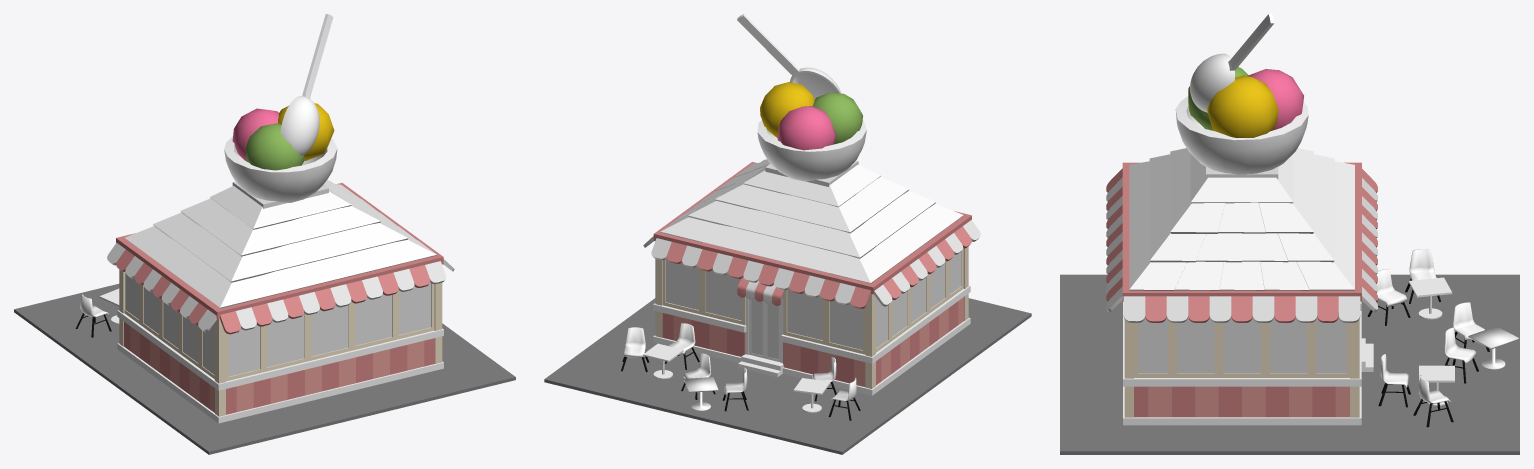
File: IceCreamShop.fbx
The picture shows the model from 3 angles, left to right: view 1: azimuth 30°, elevation 25°; view 2: azimuth 150°, elevation 25°; view 3: azimuth 270°, elevation 25°; orthographic projection. The views are drawn at different scales.
Visible parts, largest first — view 1: Cube.670, Plane, Cube.657, Cube.660, Cube.687, Cube.683, Cube.696, Sphere.001, Sphere, Cube.661, Sphere.004, Plane.100; view 2: Plane, Cube.670, Cube.657, Cube.687, Cube.660, Cube.696, Sphere.001, Cube.683, Sphere, Cube.661, Plane.100, Plane.099 (+2 smaller); view 3: Plane, Cube.670, Cube.687, Cube.657, Cube.660, Sphere.001, Cube.683, Cube.696, Sphere, Plane.100, Cube.661, Plane.099 (+2 smaller).
Boxes of the visible parts, x1,y1,x2,y2 form: Cube.670: (125,180,436,308); Plane: (14,283,515,454); Cube.657: (125,273,430,376); Cube.660: (124,322,434,414); Cube.687: (107,242,454,334); Cube.683: (119,264,442,416); Cube.696: (117,310,443,423); Sphere.001: (232,103,334,170); Sphere: (224,136,337,202); Cube.661: (116,183,443,319); Sphere.004: (280,14,333,155); Plane.100: (75,294,111,337); Plane: (544,298,1031,454); Cube.670: (660,159,963,283); Cube.657: (666,251,961,349); Cube.687: (643,220,980,308); Cube.660: (662,297,964,386); Cube.696: (653,285,970,395); Sphere.001: (760,82,862,150); Cube.683: (655,246,968,388); Sphere: (757,120,866,181); Cube.661: (653,162,971,294); Plane.100: (621,323,860,420); Plane.099: (643,343,830,412); Plane: (1060,274,1519,454); Cube.670: (1129,148,1354,290); Cube.687: (1106,168,1377,322); Cube.657: (1138,317,1346,373); Cube.660: (1134,386,1349,417); Sphere.001: (1188,67,1303,137); Cube.683: (1124,319,1359,417); Cube.696: (1123,301,1373,425); Sphere: (1175,96,1308,174); Plane.100: (1367,249,1489,427); Cube.661: (1122,162,1361,301); Plane.099: (1409,277,1518,405).
Bounding box in the file's own units: 1.51 × 1.54 × 1.66.
